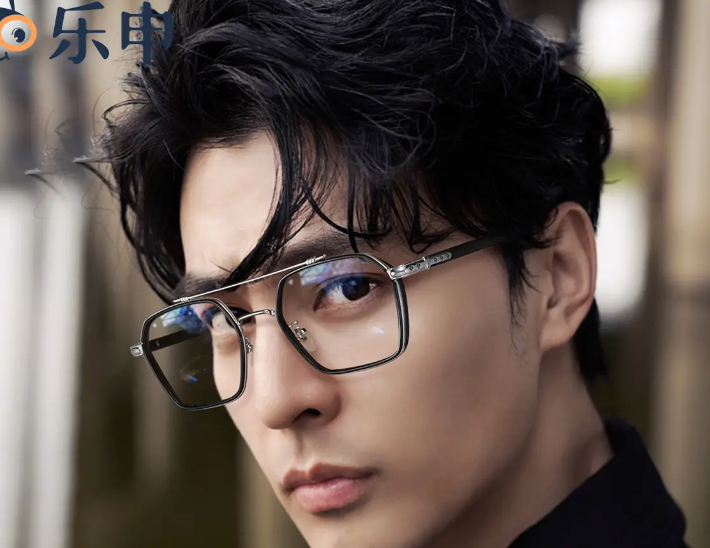glass: (109, 227, 585, 416)
mouth: (258, 451, 415, 525)
